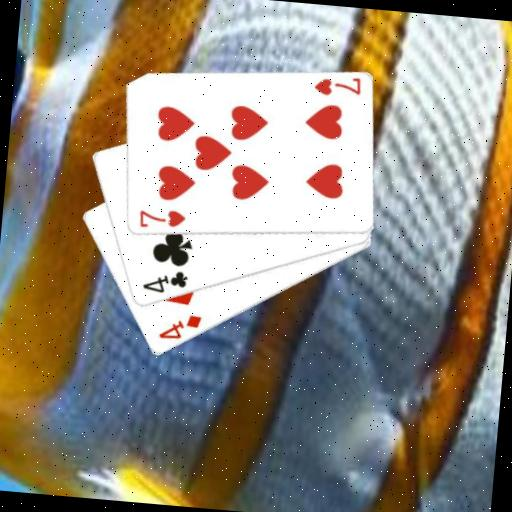4C: (139, 265, 190, 297)
4D: (155, 309, 204, 344)
7H: (310, 72, 363, 101), (135, 205, 188, 233)
